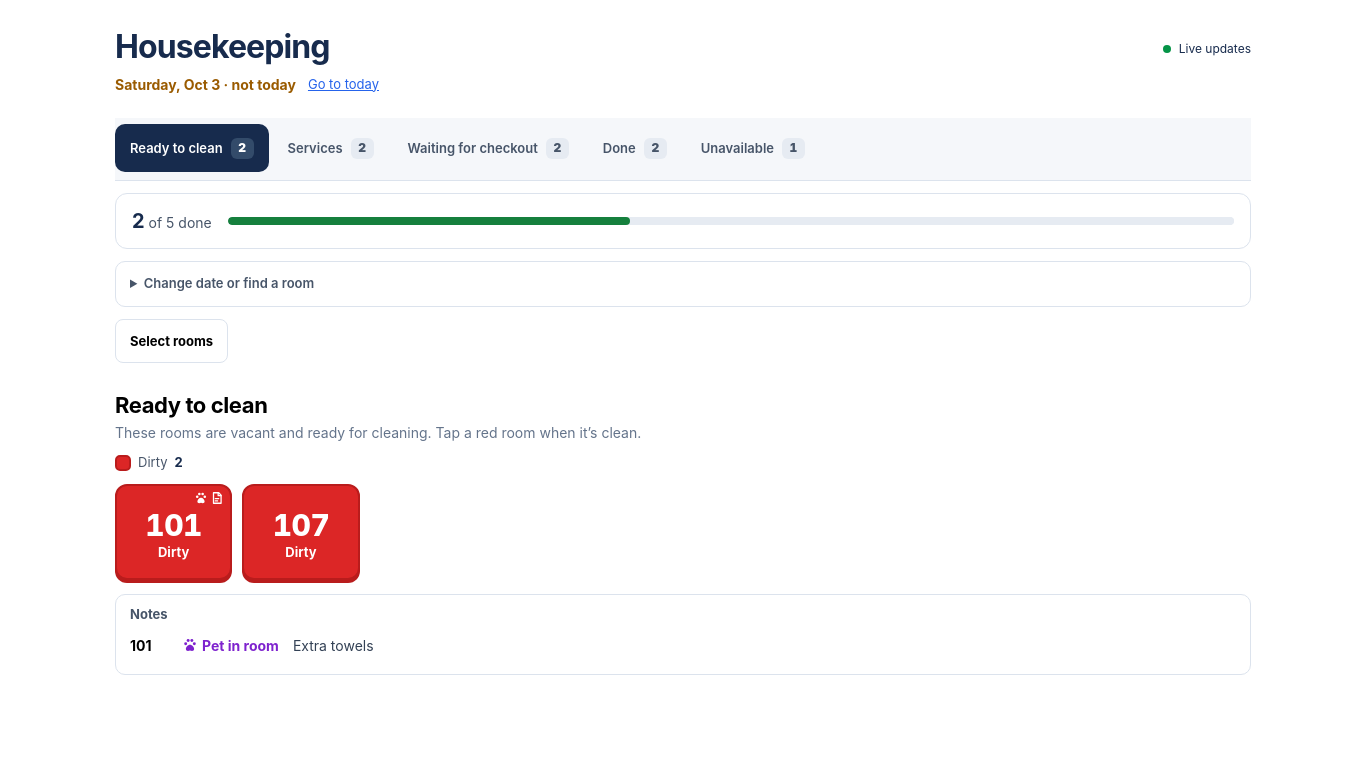
Test: a previously serviced stayover can be reverted from Services without changing the guest or cleaning status
Expected: the list item with aria-label "Room 101, Dirty" is shown, [115, 484, 232, 580]
Click the tab "Services 2".
click(331, 148)  # box [273, 124, 389, 172]
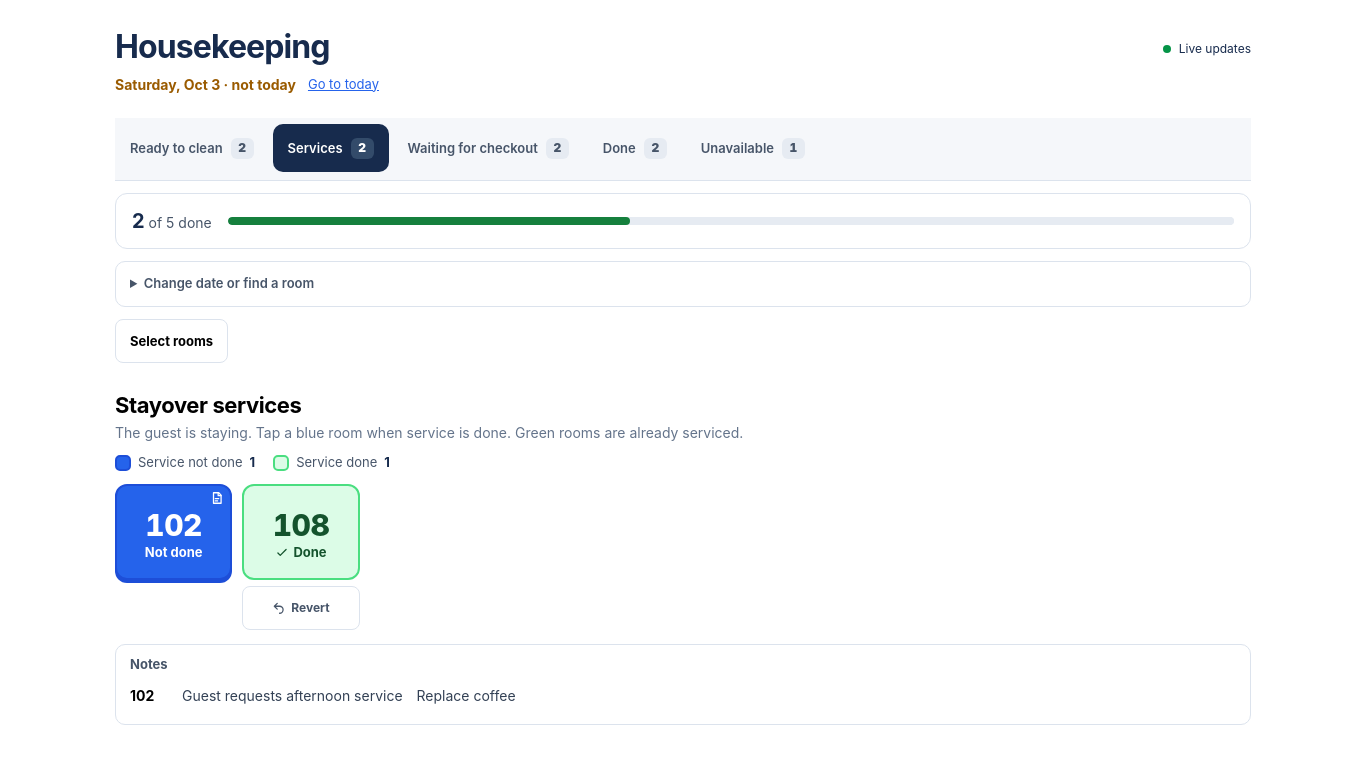
Click the button with aria-label "Revert room 108 service".
click(301, 608)  # box [242, 586, 360, 630]
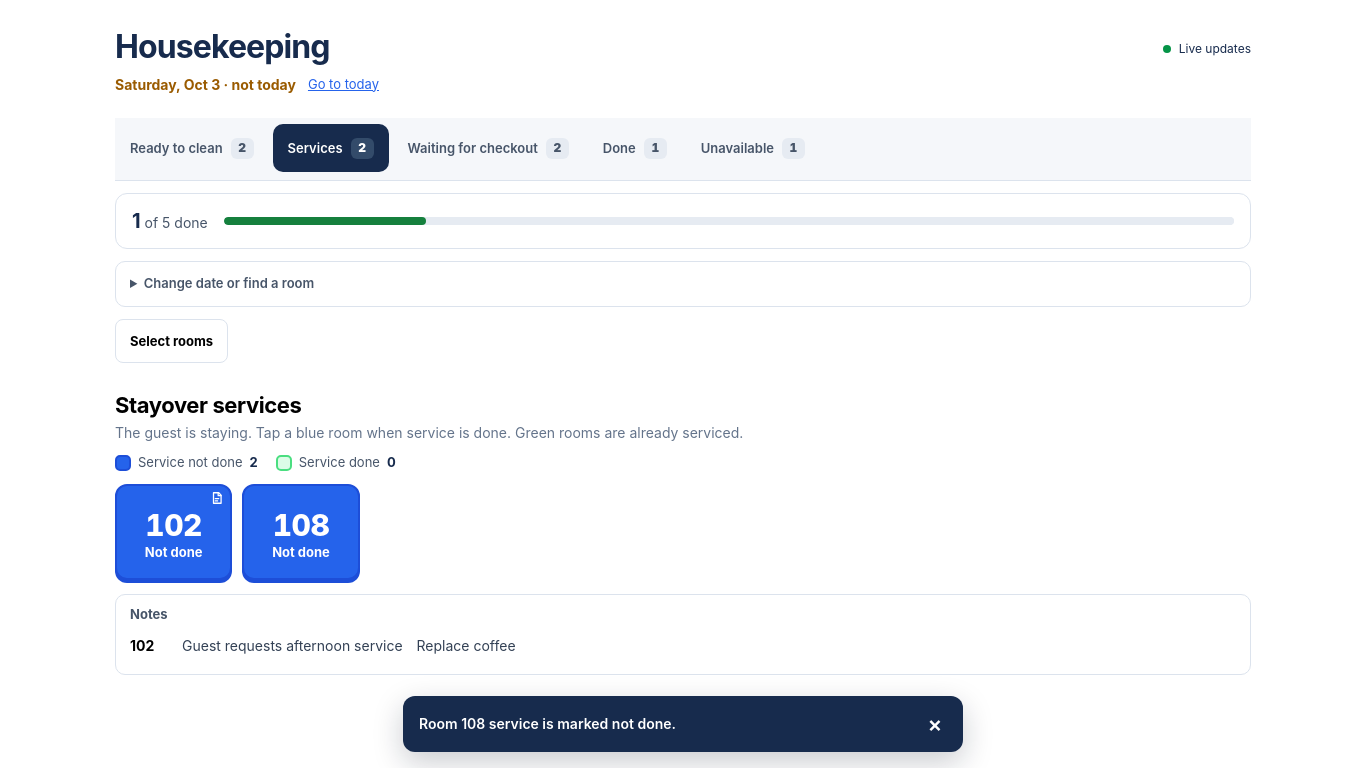
Expected: the text "Room 108 service is marked not done." is shown, [419, 715, 676, 732]
